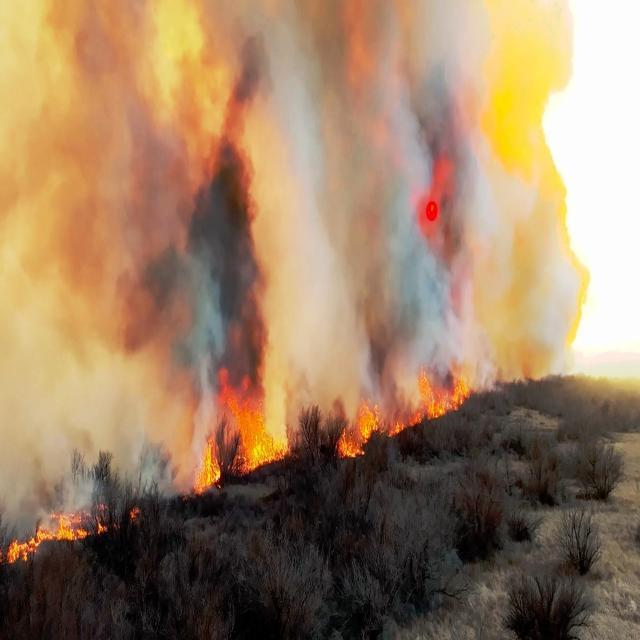Fire: (196, 368, 284, 484), (0, 512, 79, 574), (412, 356, 480, 421), (338, 399, 396, 461)
Smoke: (188, 11, 586, 363), (1, 1, 195, 496), (80, 512, 108, 544)
